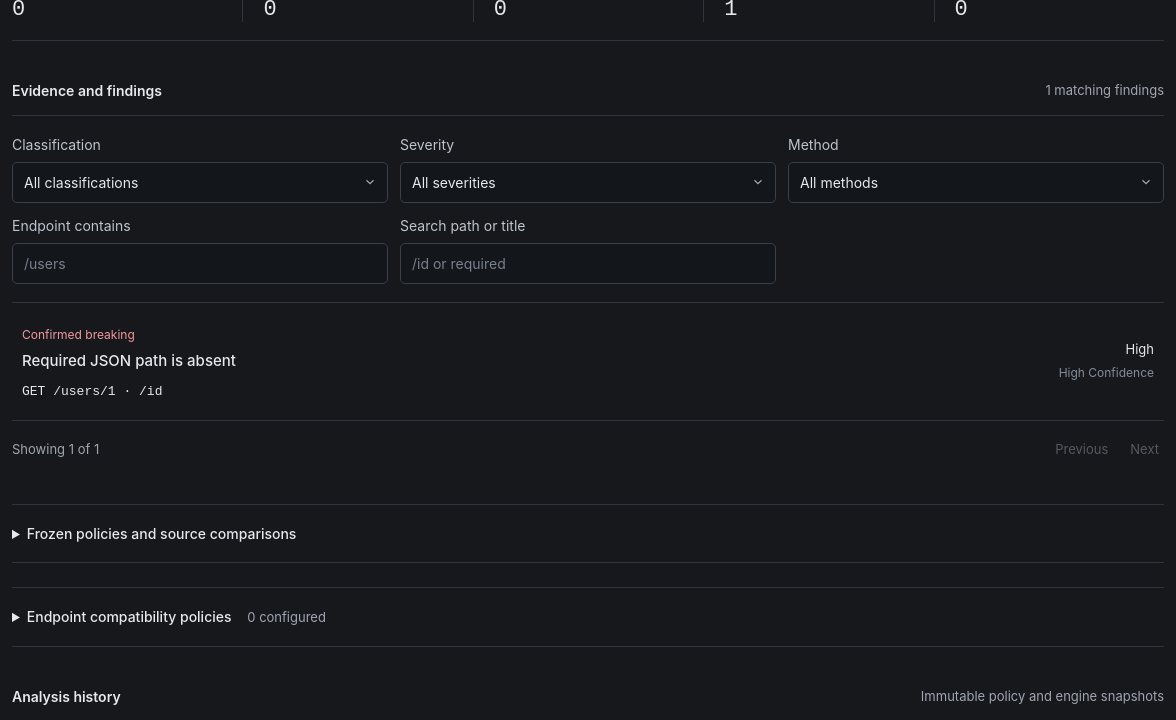
Test case: compatibility workspace › shows scoped verdict, evidence, exact difference link, frozen policy and download links
(page scrolled)
Click the heading "Required JSON path is absent" at (129, 361), box [22,350,236,372]
(page scrolled)
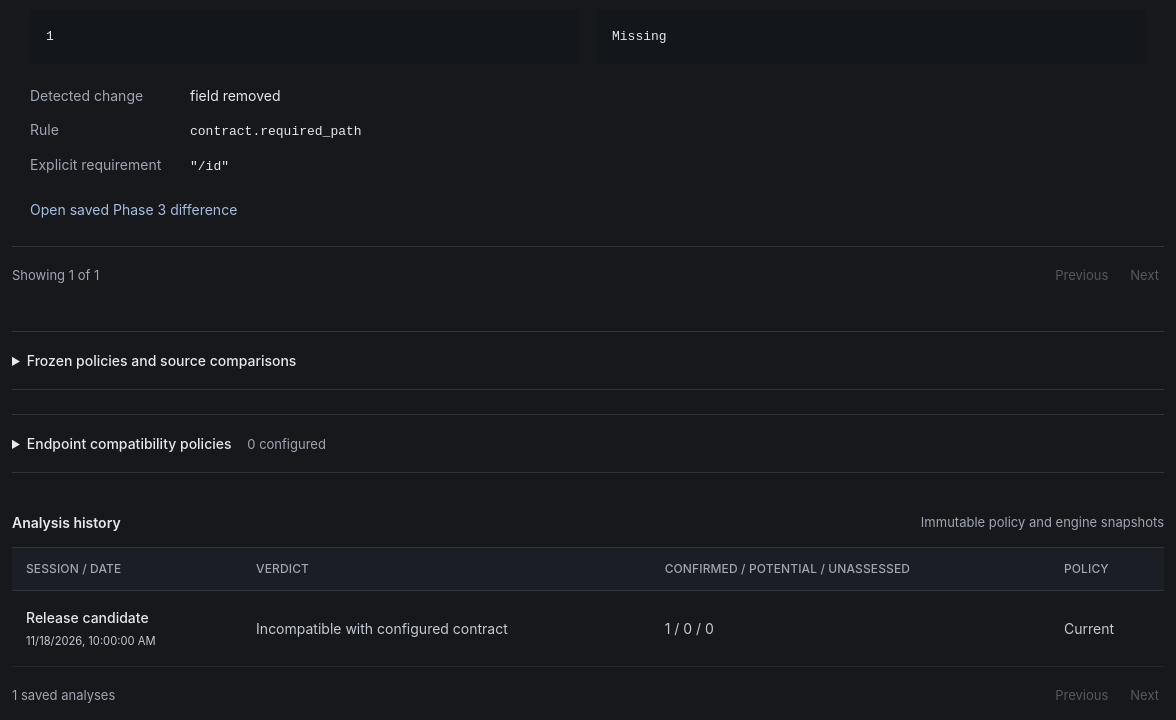
Result: the text "Missing" is shown at [596,10,1146,64]
Click the heading "Frozen policies and source comparisons" at (162, 360), box [27,352,296,369]
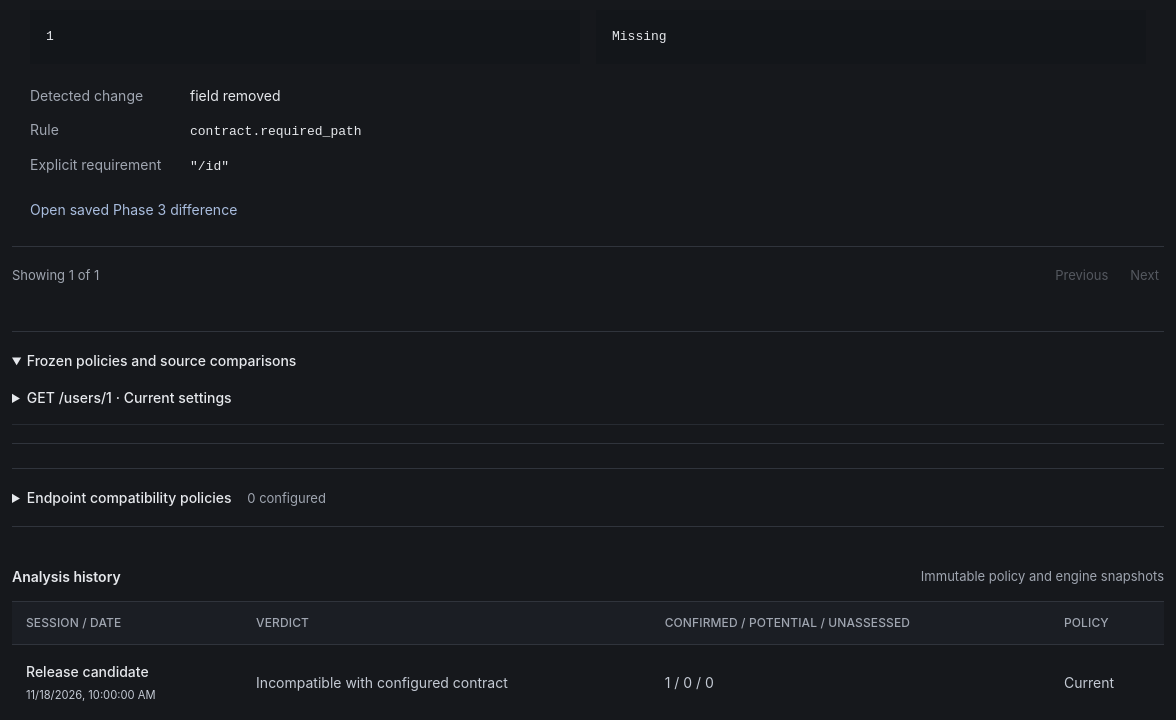
Result: the heading "GET /users/1 · Current settings" is shown at [27,389,232,406]
